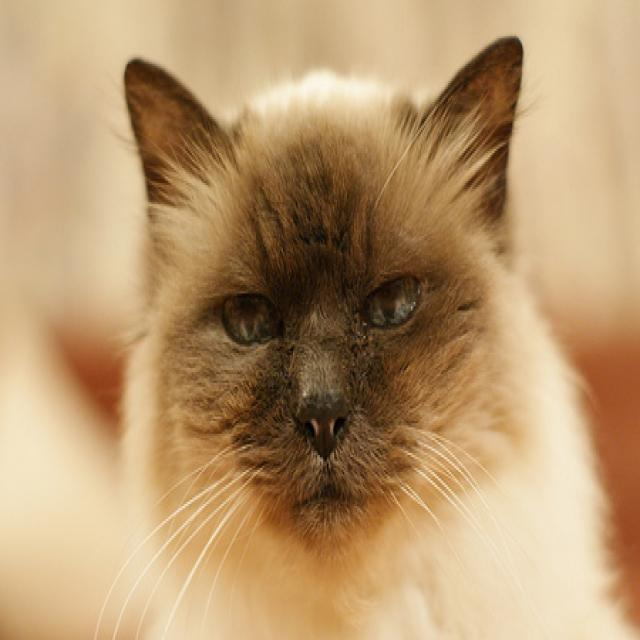Birman: (119, 30, 640, 640)
